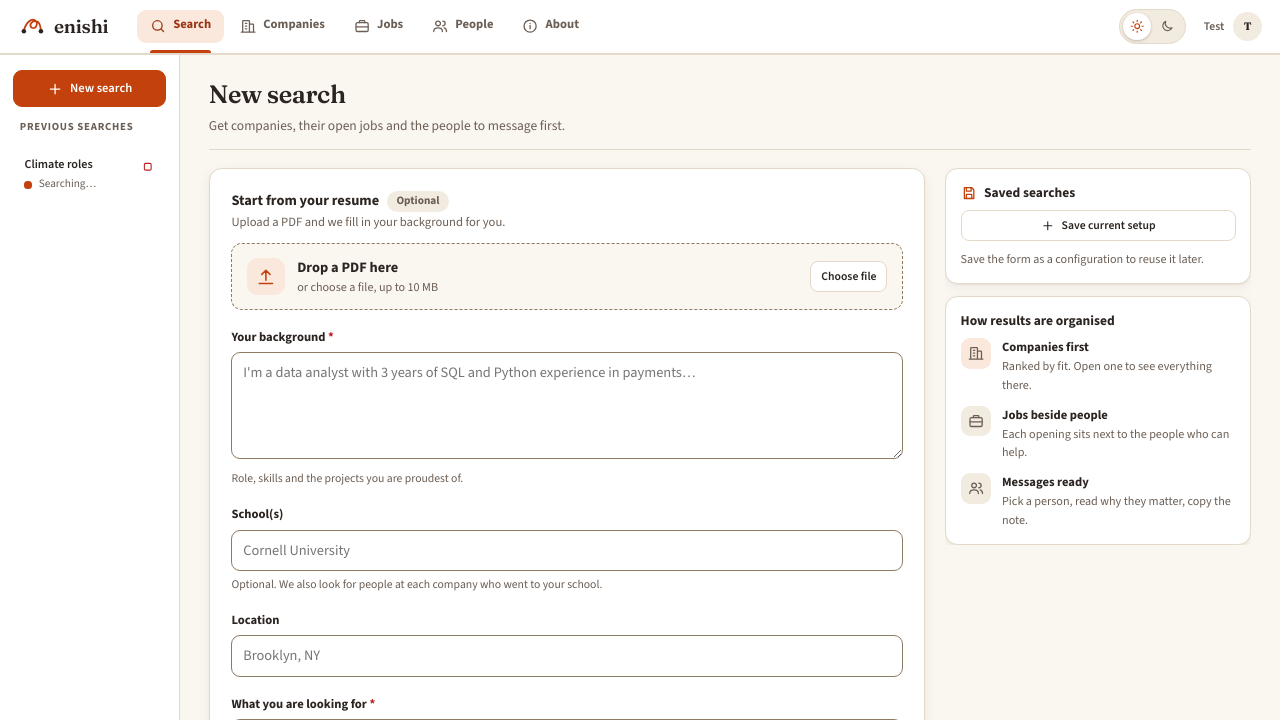
it: App background searches › shows the error and refreshes the list when the cancel is refused
The image size is (1280, 720).
Click the button named "Cancel search".
click(148, 167)  # box top-left (134, 154), bottom-right (161, 181)
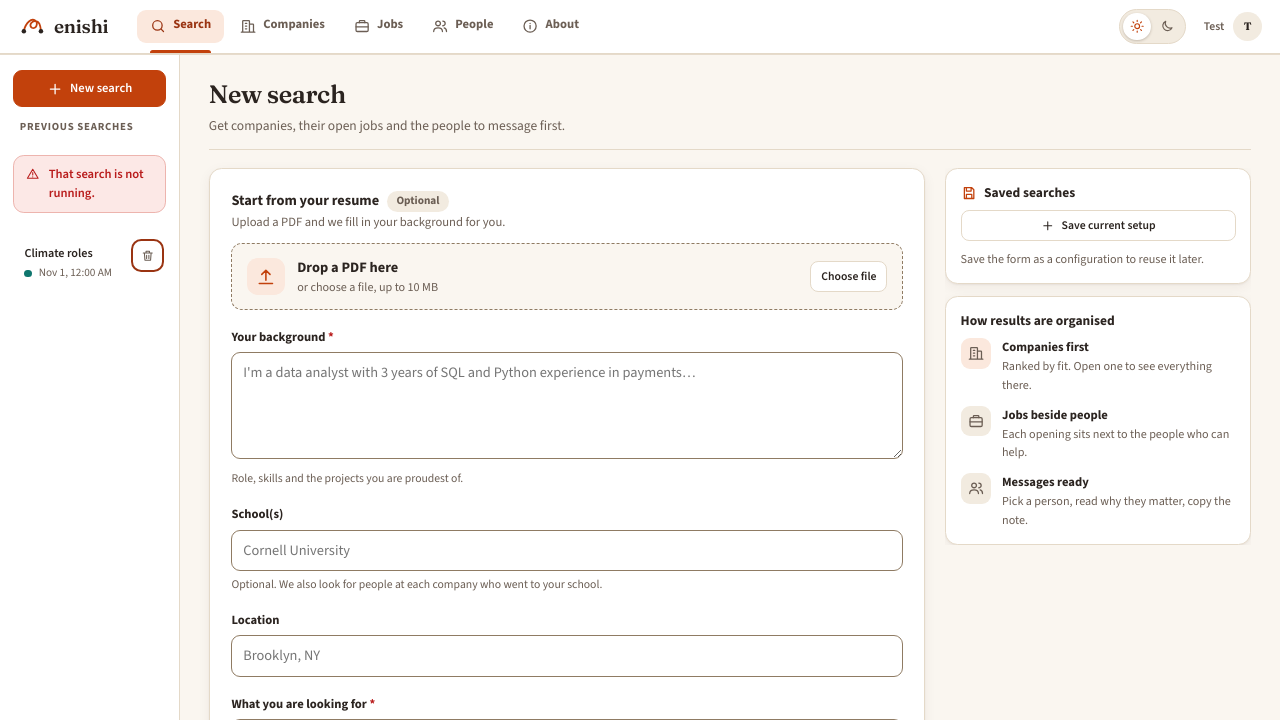
expect the text "That search is not running." is shown: met, box top-left (13, 156), bottom-right (166, 213)
expect the text "Searching…" is gone: met
